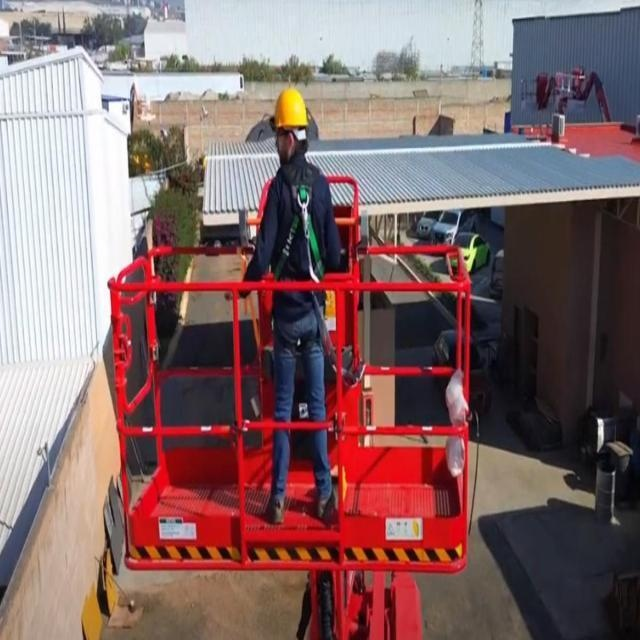Arnes_seguridad: (272, 169, 324, 354)
